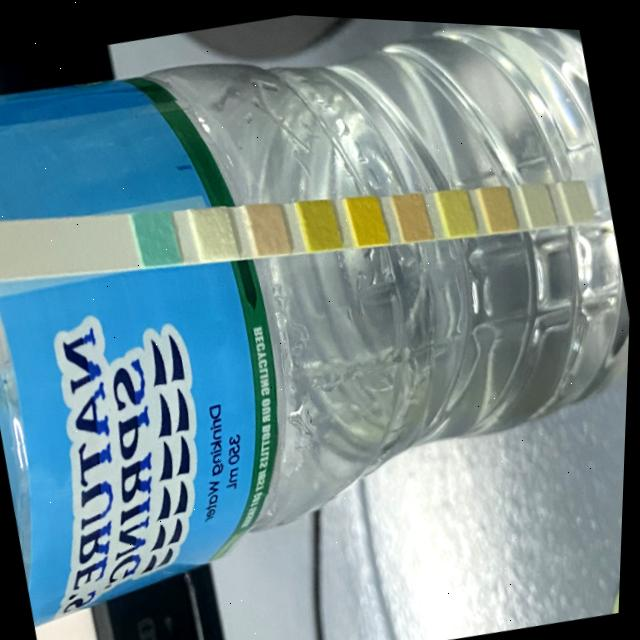Bilirubin: (194, 204, 238, 253)
Blood: (347, 188, 389, 241)
Glucose: (134, 204, 184, 264)
Ketone: (248, 196, 290, 249)
Leukocytes: (562, 171, 593, 215)
Nitrite: (523, 174, 558, 221)
Protein: (439, 181, 478, 230)
SpGravity: (299, 192, 343, 245)
Urobilinogen: (481, 178, 516, 225)
pH: (394, 185, 434, 235)
